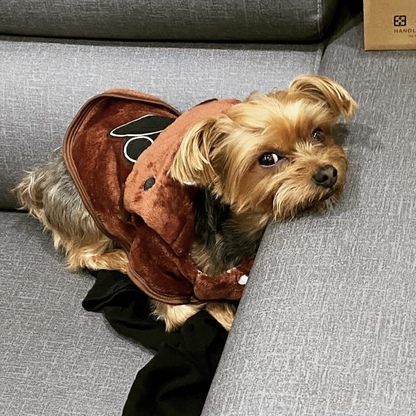yorkshire: (172, 73, 357, 217)
